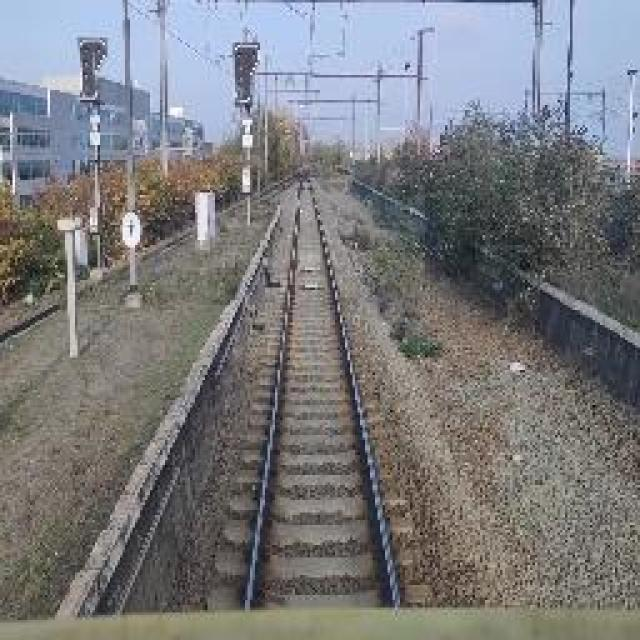rail: (197, 156, 446, 603)
